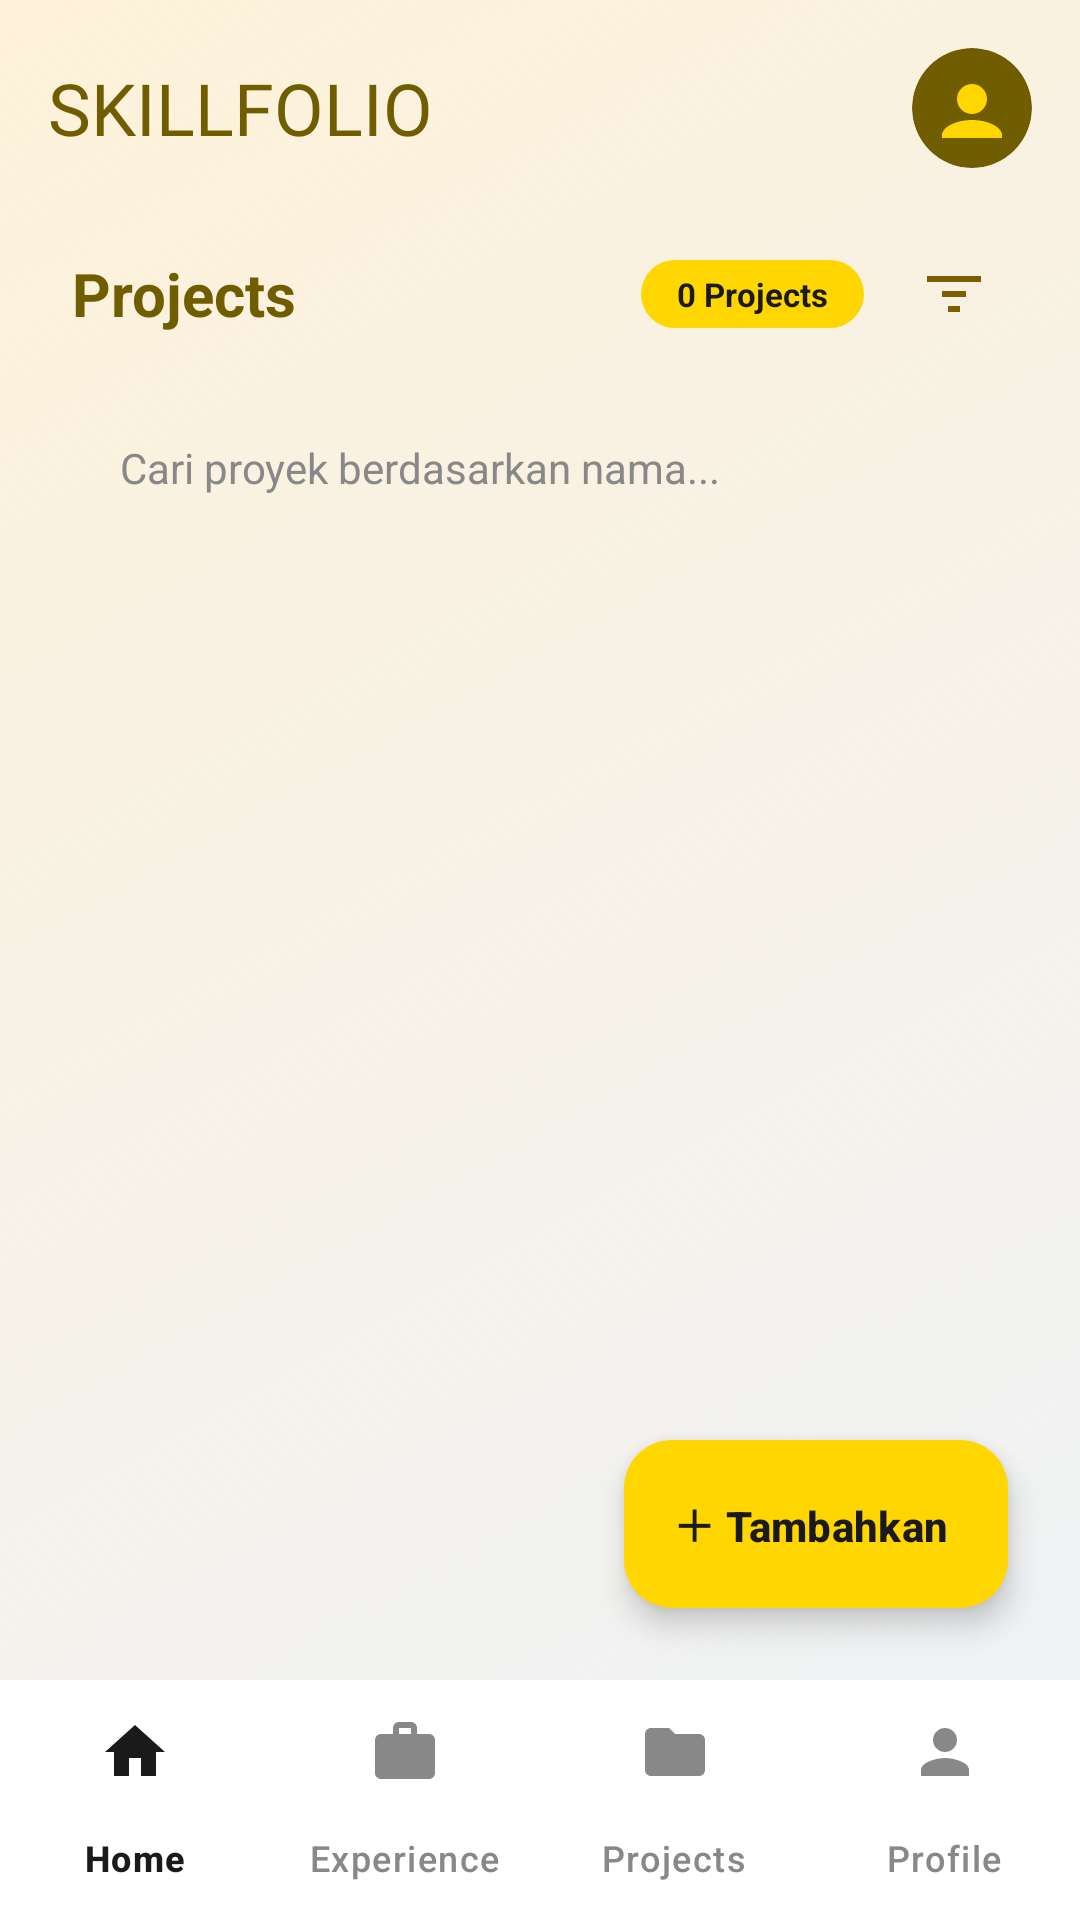

Named icons in this screenshot (1080 x 1920) and their bounding boxes, box(x1, y1, x2, y2):
Filter list: box(927, 276, 981, 312)
